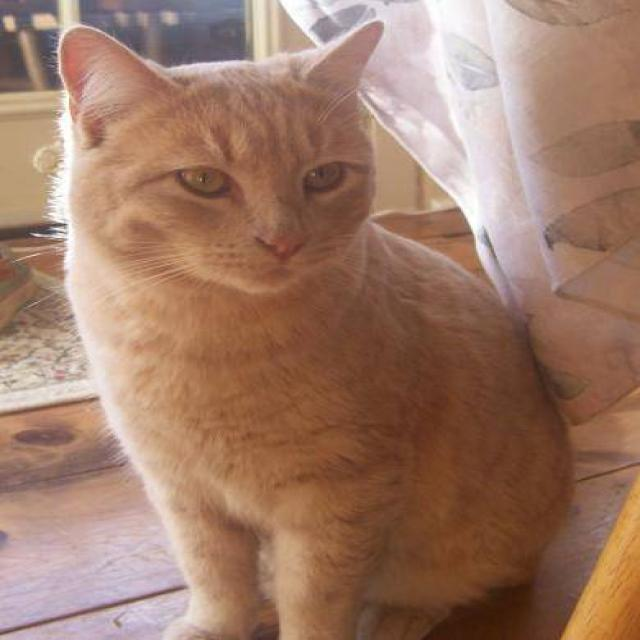cat: (30, 18, 576, 639)
